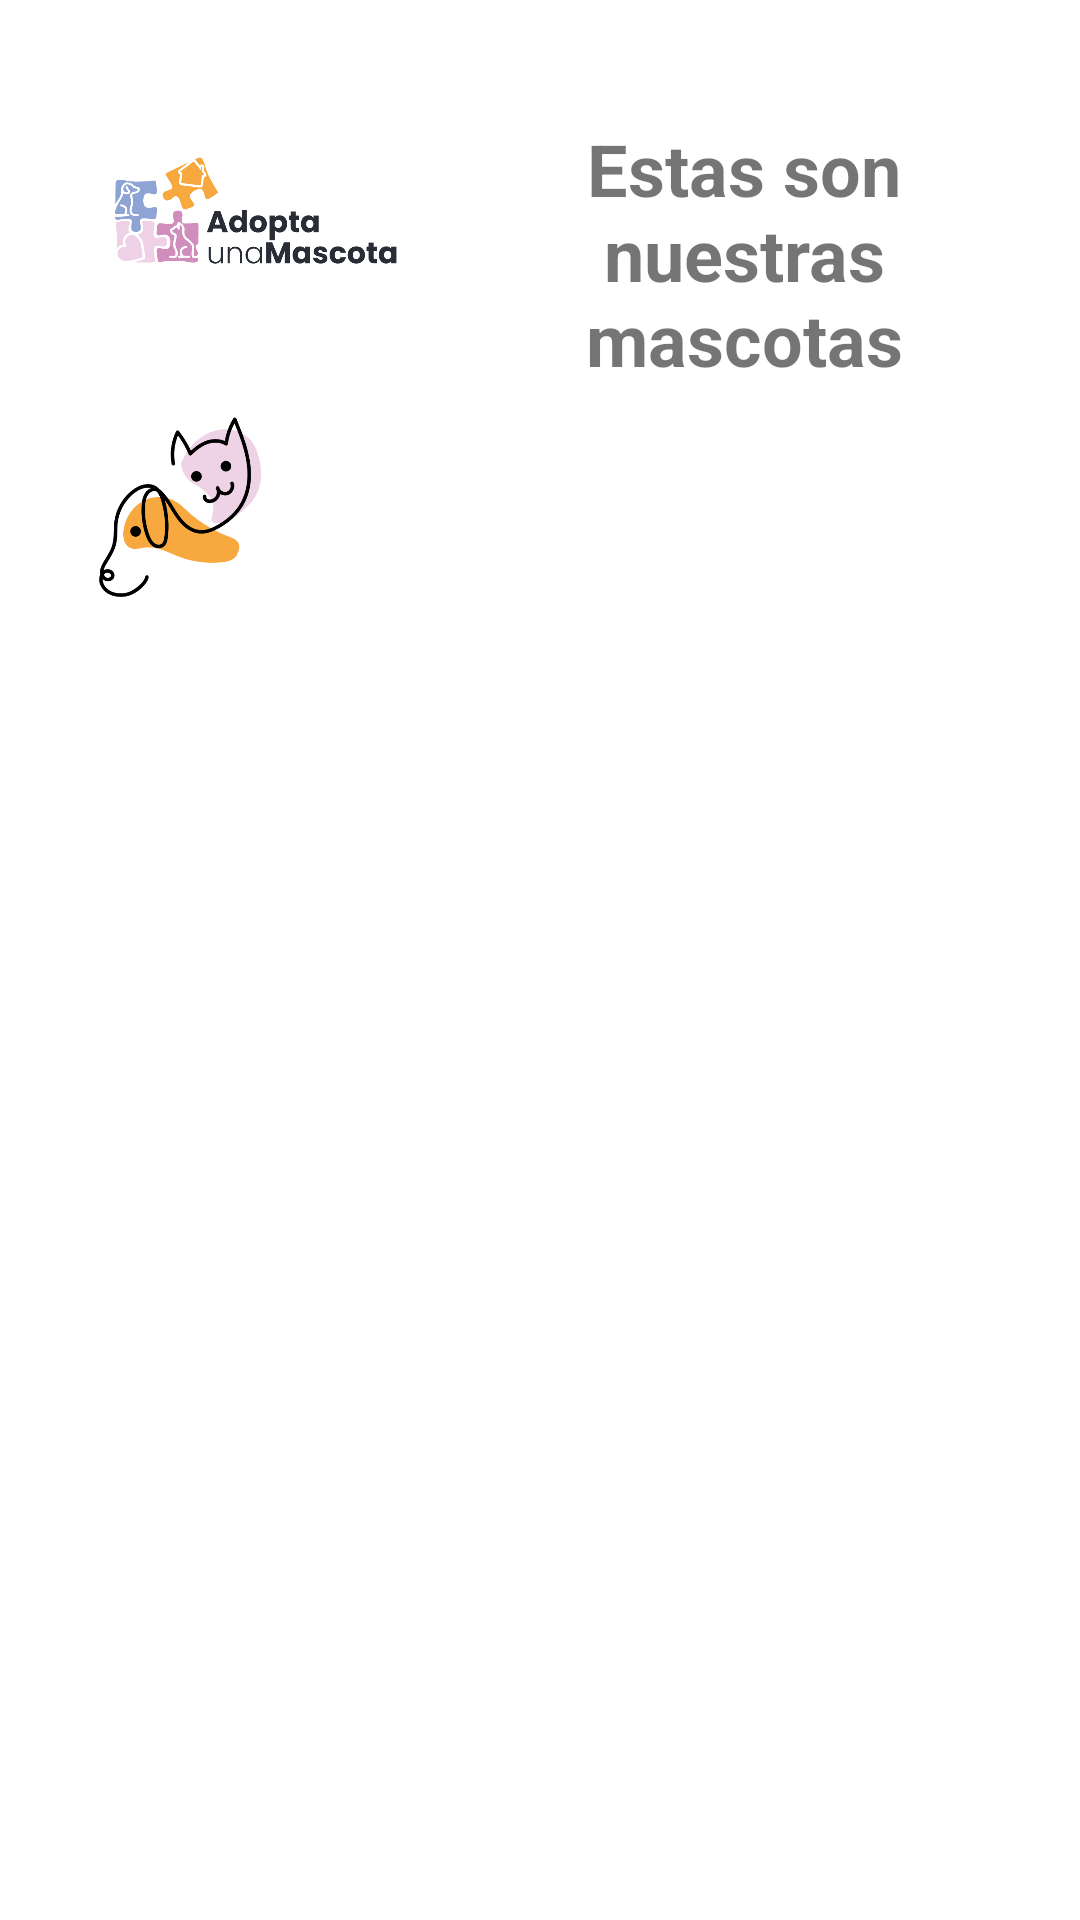

Where to tap for icons on this 1080*1920 app screen, as [x,y]:
animales: [180,507]
